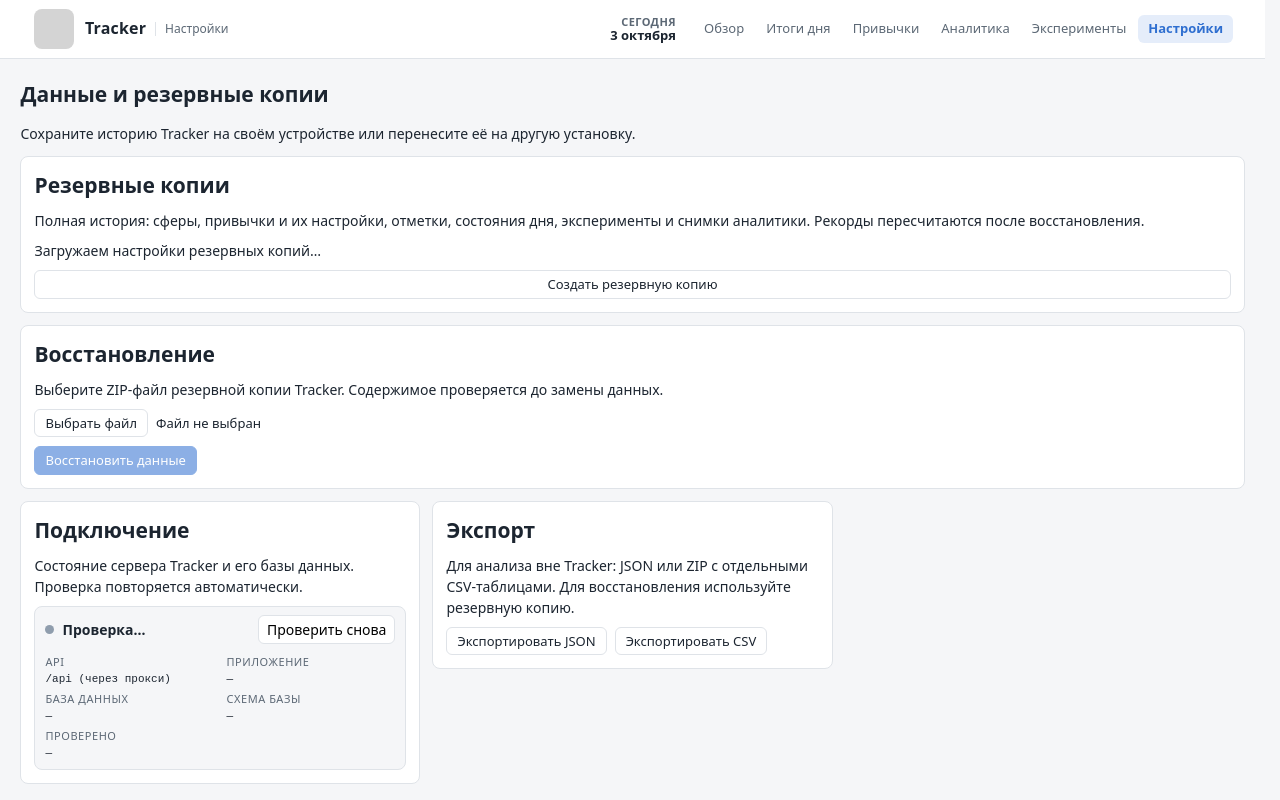
Test: App shell › explains a database whose schema is behind, with the migration command
The width and height of the screenshot is (1280, 800).
Click the link "Настройки".
click(1186, 29)  # box [1138,15,1233,43]
(page scrolled)
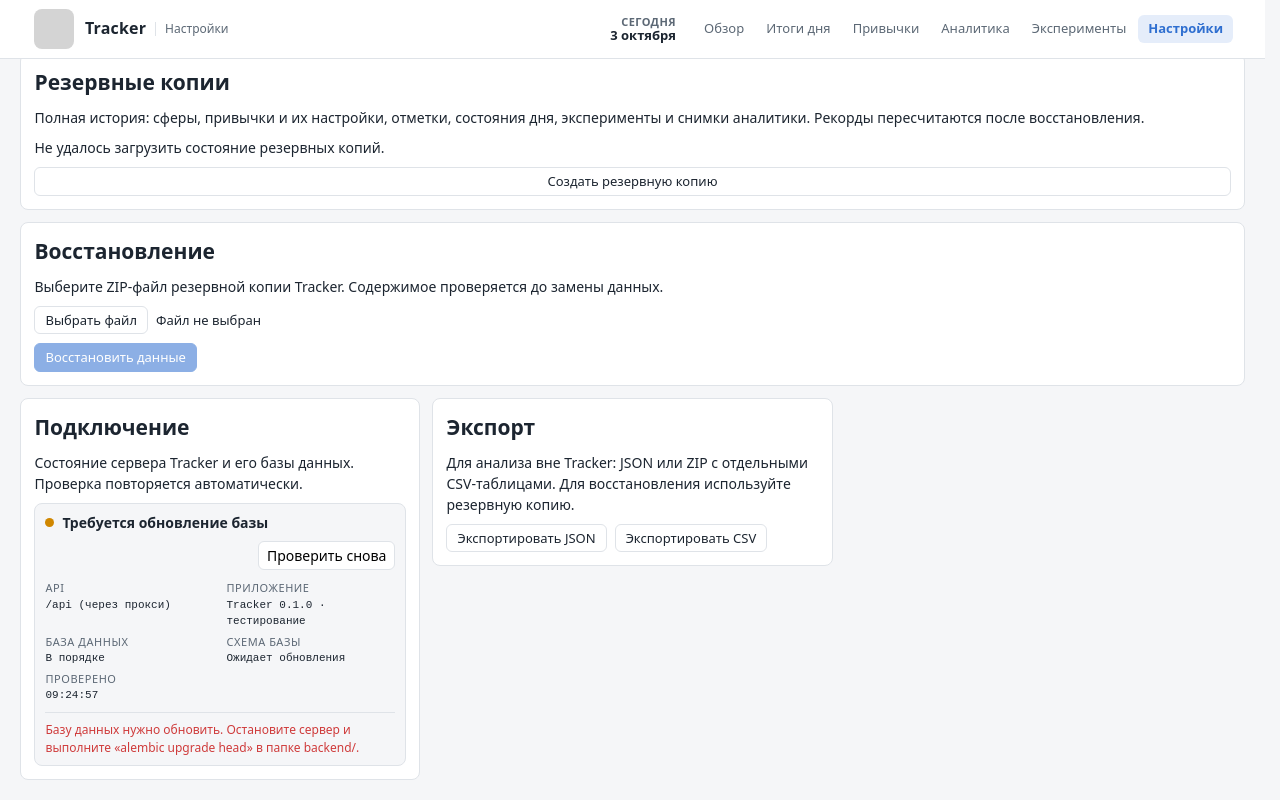
Expected: the text "Требуется обновление базы" is shown, [62,512,268,533]
Expected: the 2nd message shows "alembic upgrade head", [46,721,359,756]
